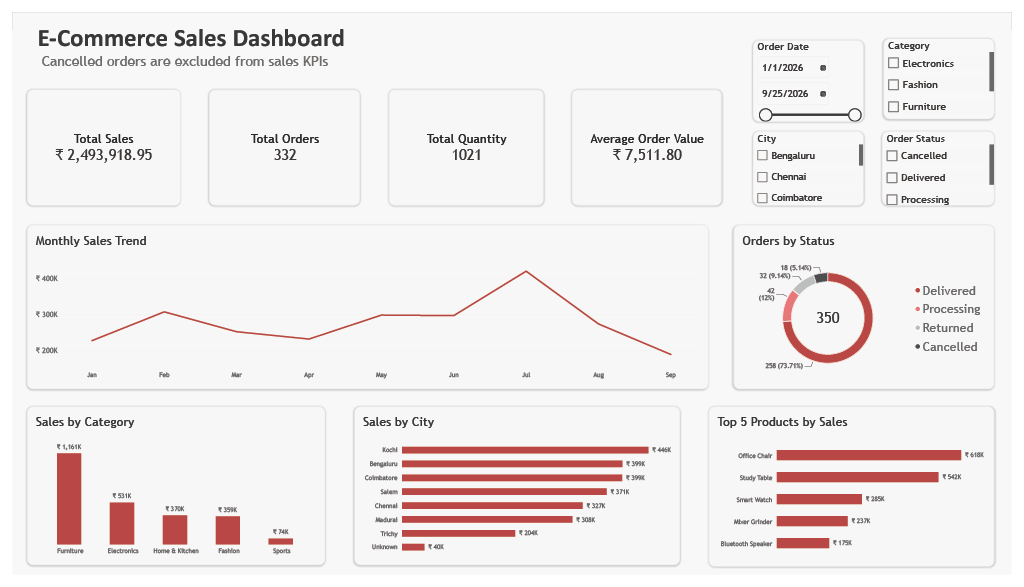

The dashboard page shown, as its layout file describes it:
{"tool":"powerbi","page":{"name":"Sales Dashboard","canvas":[1920,1080],"ordinal":0},"visuals":[{"type":"cardVisual","title":"Total Sales","fields":{"Data":["Sales Data.Total Sales"]},"box":[27.6,147.8,295.7,223],"z":0},{"type":"cardVisual","fields":{"Data":["Sales Data.Total Orders"]},"box":[377.6,147.8,290.7,223],"z":1000},{"type":"cardVisual","fields":{"Data":["Sales Data.Total Quantity"]},"box":[722.5,147.8,298.2,223],"z":2000},{"type":"cardVisual","fields":{"Data":["Sales Data.Average Order Value"]},"box":[1075,147.8,288.2,223],"z":3000},{"type":"lineChart","title":"Monthly Sales Trend","fields":{"Category":["Sales Data.Month"],"Y":["Sales Data.Total Sales"]},"box":[27.6,408.5,1310.6,315.7],"z":4000},{"type":"clusteredColumnChart","title":"Sales by Category","fields":{"Category":["Sales Data.Category"],"Y":["Sales Data.Total Sales"]},"box":[27.6,756.8,573.8,305.7],"z":5000},{"type":"clusteredBarChart","title":"Sales by City","fields":{"Category":["Sales Data.City"],"Y":["Sales Data.Total Sales"]},"box":[656.5,756.8,626.5,305.7],"z":6000},{"type":"clusteredBarChart","title":"Top 5 Products by Sales","fields":{"Category":["Sales Data.Product"],"Y":["Sales Data.Total Sales"]},"box":[1338.1,756.8,548.8,308.2],"z":7000},{"type":"slicer","fields":{"Values":["Sales Data.Order Date"]},"box":[1423.3,52.6,213,157.9],"z":8000},{"type":"slicer","fields":{"Values":["Sales Data.Category"]},"box":[1673.9,50.1,213,155.4],"z":9000},{"type":"slicer","fields":{"Values":["Sales Data.City"]},"box":[1423.3,228,213,142.8],"z":10000},{"type":"slicer","fields":{"Values":["Sales Data.Order Status"]},"box":[1671.4,228,215.5,142.8],"z":11000},{"type":"textbox","box":[47.6,17.5,651.5,112.8],"z":12000},{"type":"donutChart","title":"Orders by Status","fields":{"Category":["Sales Data.Order Status"],"Y":["Count(Sales Data.Order ID)"]},"box":[1385.8,408.5,501.2,315.7],"z":13000}]}

Visuals, with their boxes in screenshot pixels (x1, y1, x2, y2), scaled from the page's 1920x1080 canvas onto the 1024x587 screenshot:
"Total Sales" cardVisual: crop(15, 80, 172, 202)
cardVisual - Sales Data.Total Orders: crop(201, 80, 356, 202)
cardVisual - Sales Data.Total Quantity: crop(385, 80, 544, 202)
cardVisual - Sales Data.Average Order Value: crop(573, 80, 727, 202)
"Monthly Sales Trend" lineChart: crop(15, 222, 714, 394)
"Sales by Category" clusteredColumnChart: crop(15, 411, 321, 577)
"Sales by City" clusteredBarChart: crop(350, 411, 684, 577)
"Top 5 Products by Sales" clusteredBarChart: crop(714, 411, 1006, 579)
slicer - Sales Data.Order Date: crop(759, 29, 873, 114)
slicer - Sales Data.Category: crop(893, 27, 1006, 112)
slicer - Sales Data.City: crop(759, 124, 873, 202)
slicer - Sales Data.Order Status: crop(891, 124, 1006, 202)
textbox: crop(25, 10, 373, 71)
"Orders by Status" donutChart: crop(739, 222, 1006, 394)
